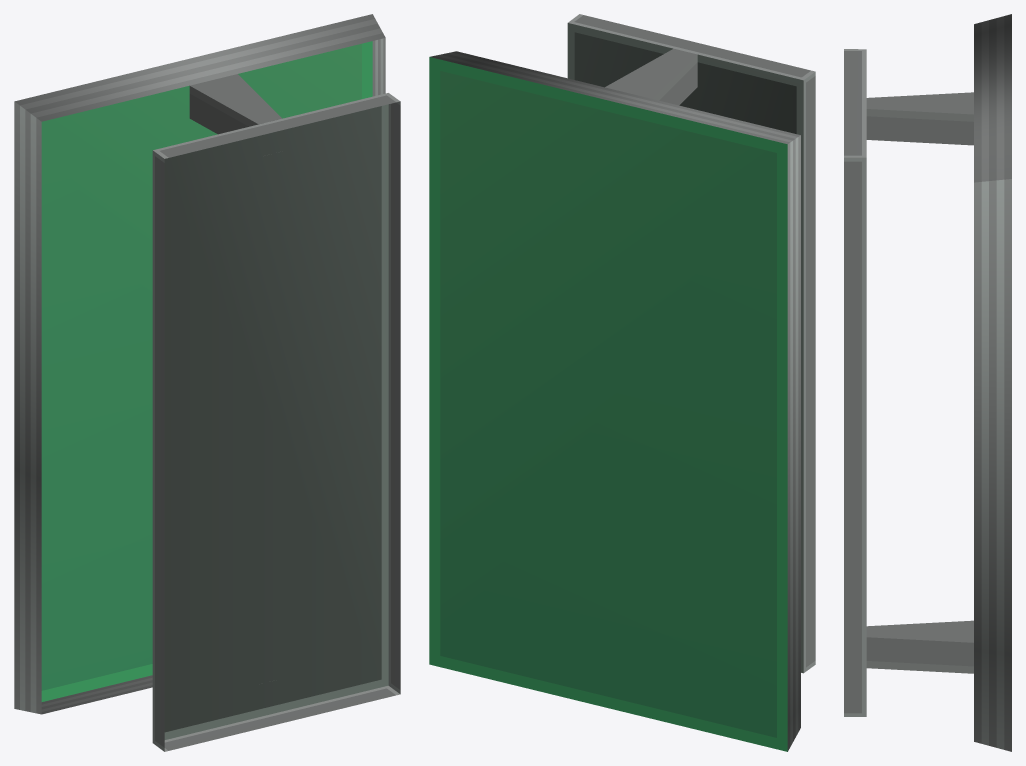
File: RestaurantTable.fbx
The picture shows the model from 3 angles, left to right: view 1: azimuth 30°, elevation 25°; view 2: azimuth 150°, elevation 25°; view 3: azimuth 270°, elevation 25°; orthographic projection. The views are drawn at different scales.
Parts seen in each view (by area): view 1: RestaurantTable; view 2: RestaurantTable; view 3: RestaurantTable.
Part boxes in pixels (x1,y1,x2,y2): RestaurantTable: (14, 14, 400, 751); RestaurantTable: (429, 14, 815, 751); RestaurantTable: (844, 14, 1011, 751).
Size of the model in its own units: 104 by 169 by 44.91.
